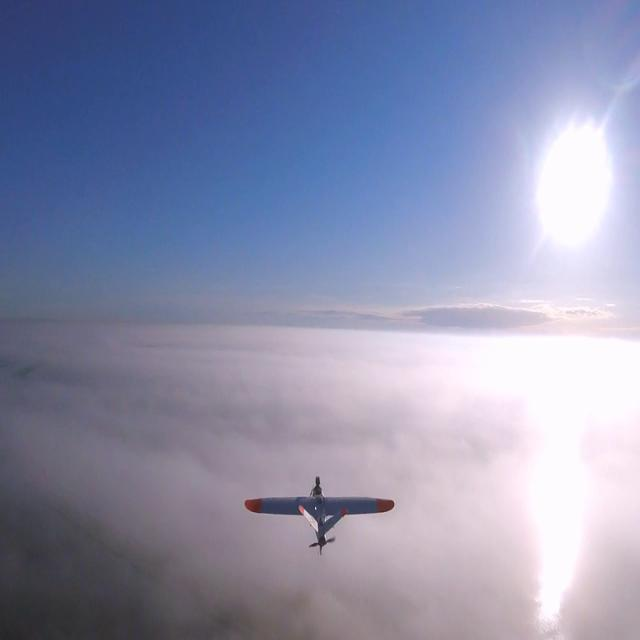iha: (243, 505, 395, 525)
